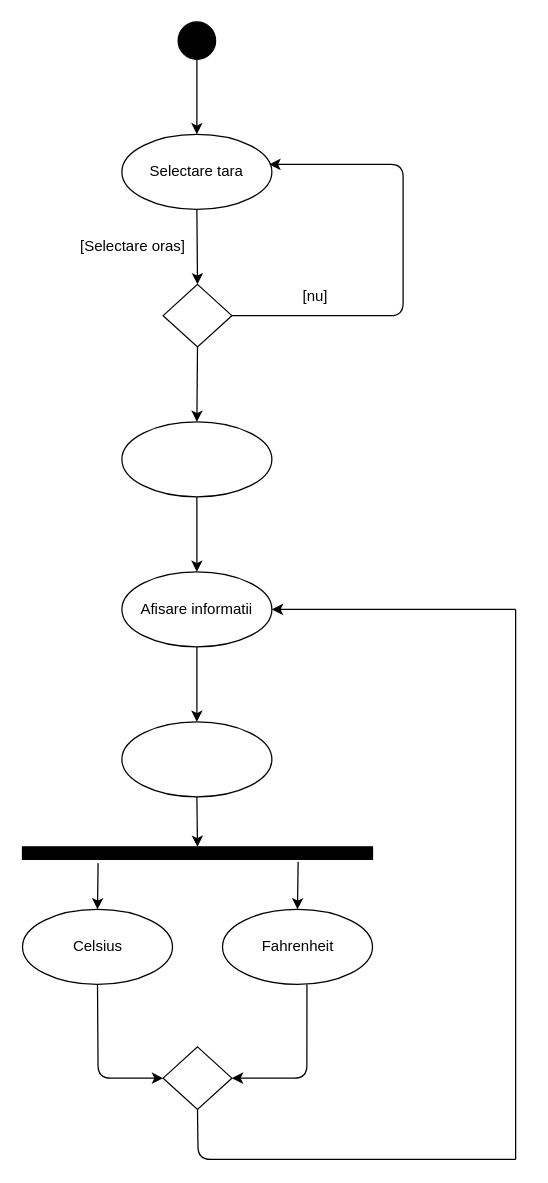
Image size: 548x1183. Some labels were removed from this diagram. Each missing label, with the centre of its shape:
"Scara de temperatura" goes at pixel 196 759.
"Selectare oras" goes at pixel 196 459.
